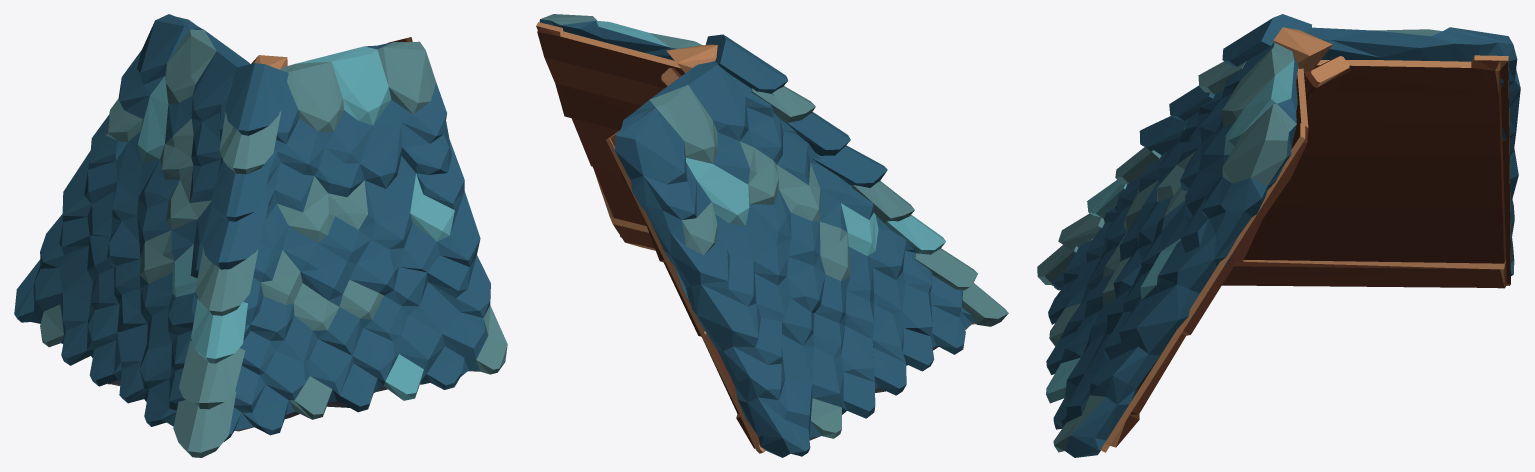
File: MCastle_Roofs_05.FBX
The picture shows the model from 3 angles, left to right: view 1: azimuth 30°, elevation 25°; view 2: azimuth 150°, elevation 25°; view 3: azimuth 270°, elevation 25°; orthographic projection. The views are drawn at different scales.
Parts seen in each view (by area): view 1: MCastle_Roofs_05_LOD0; view 2: MCastle_Roofs_05_LOD0; view 3: MCastle_Roofs_05_LOD0.
Part boxes in pixels (bbox=[...]): MCastle_Roofs_05_LOD0: bbox=[14, 14, 507, 457]; MCastle_Roofs_05_LOD0: bbox=[536, 14, 1008, 457]; MCastle_Roofs_05_LOD0: bbox=[1037, 14, 1520, 457].
Size of what is drawn, in the model's own units: 5.99 by 4.93 by 6.07.
